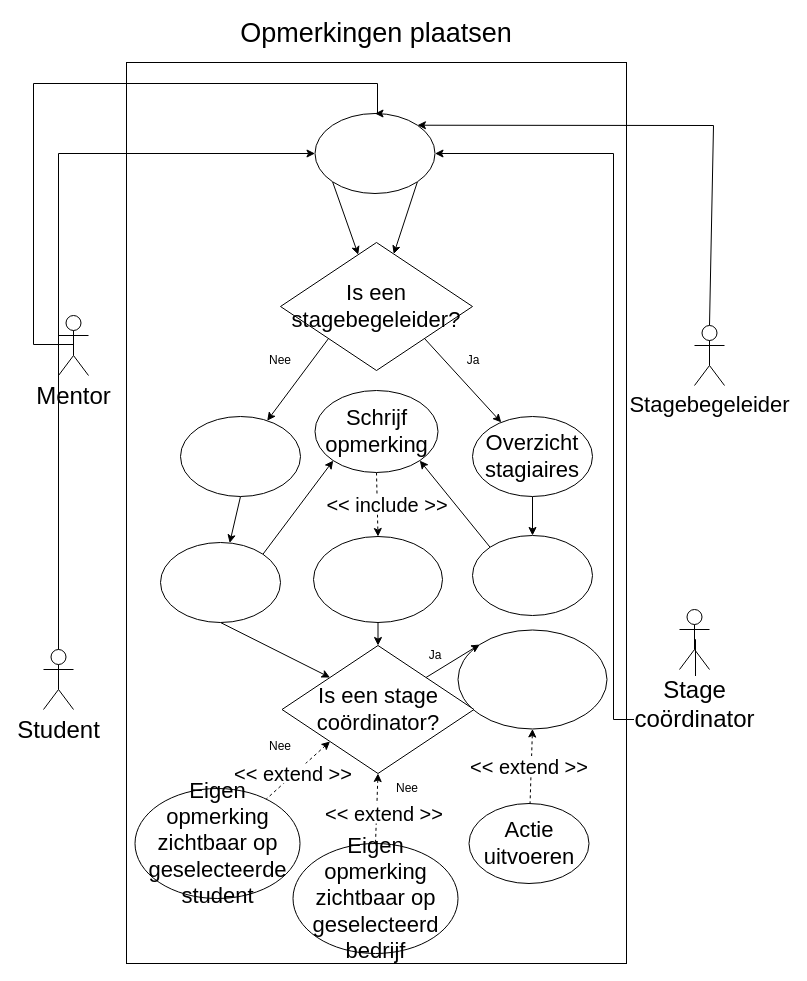
The diagram is 807 pixels wide and 981 high, and some of its shapes have lost their labels. Here are the shapes that lost their labels. From the top down, the centre of each, then its label:
At (374,153): "Log in".
At (240,456): "Zoek bedrijven".
At (220,582): "Selecteer bedrijf".
At (377,579): "Plaats opmerking".
At (532,575): "Selecteer student".
At (532,679): "Overzicht opmerekingen".
